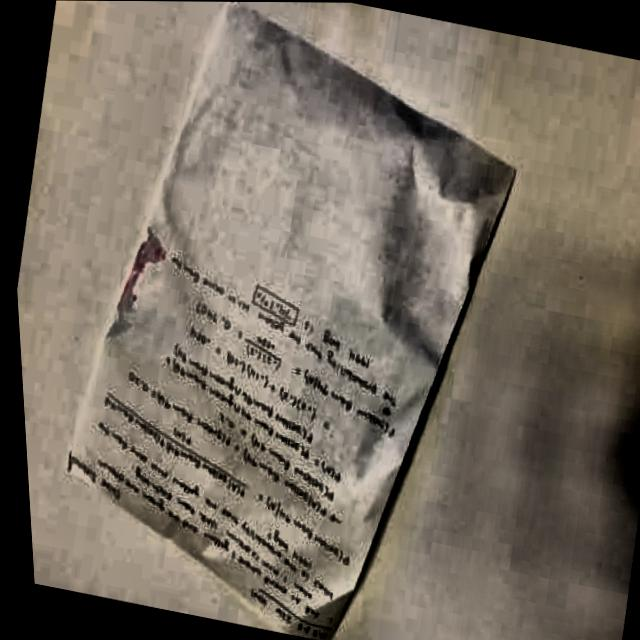Paper: (0, 0, 564, 640)
